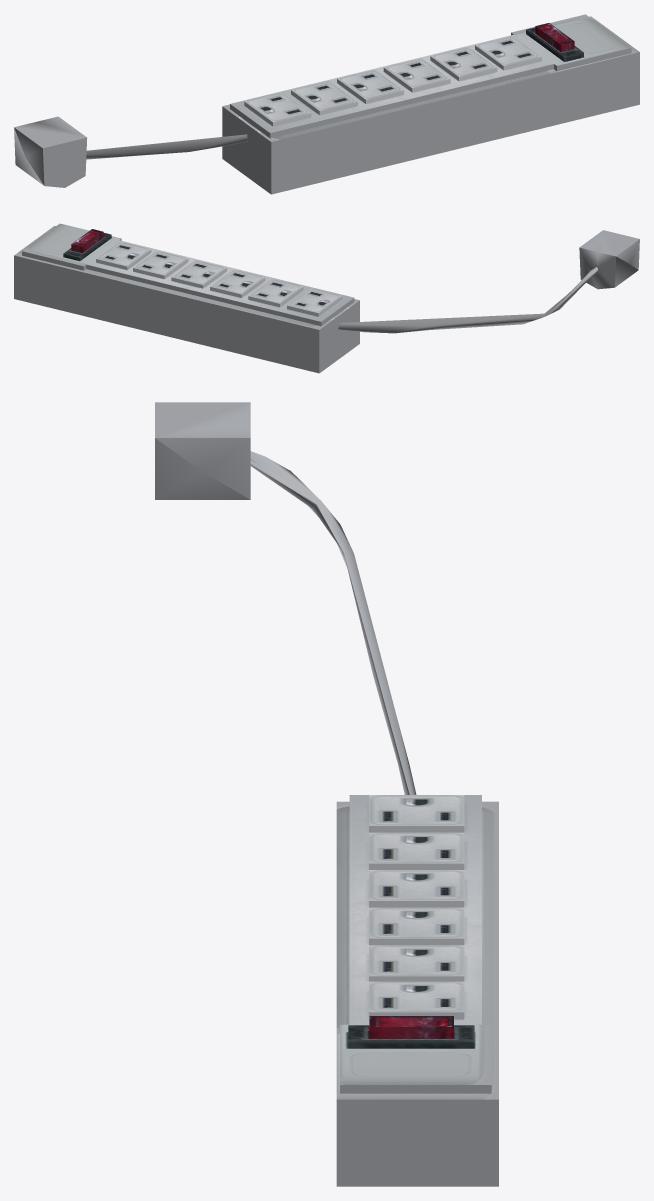
File: powerstrip_l_lod2.fbx
3 renders of one model, top to bottom at view 1: azimuth 30°, elevation 25°; view 2: azimuth 150°, elevation 25°; view 3: azimuth 270°, elevation 25°, orthographic. The views are drawn at different scales.
Visible parts, largest first — view 1: body, sockets, Box02, cord, light, lightbase; view 2: body, sockets, Box02, cord, light, lightbase; view 3: body, sockets, Box02, cord, light, lightbase.
Part boxes in pixels (x1,y1,x2,y2): body: [222, 14, 639, 194]; sockets: [244, 36, 541, 126]; Box02: [14, 116, 87, 187]; cord: [86, 134, 248, 159]; light: [535, 23, 574, 51]; lightbase: [526, 27, 583, 61]; body: [14, 223, 359, 373]; sockets: [96, 241, 342, 316]; Box02: [579, 230, 639, 289]; cord: [338, 267, 597, 333]; light: [71, 229, 103, 252]; lightbase: [63, 233, 111, 260]; body: [336, 795, 498, 1186]; sockets: [369, 795, 464, 1019]; Box02: [155, 402, 250, 499]; cord: [250, 451, 416, 794]; light: [369, 1015, 453, 1038]; lightbase: [348, 1025, 474, 1048].
Size of the model in its own units: 2.31 by 0.5236 by 0.6337.
